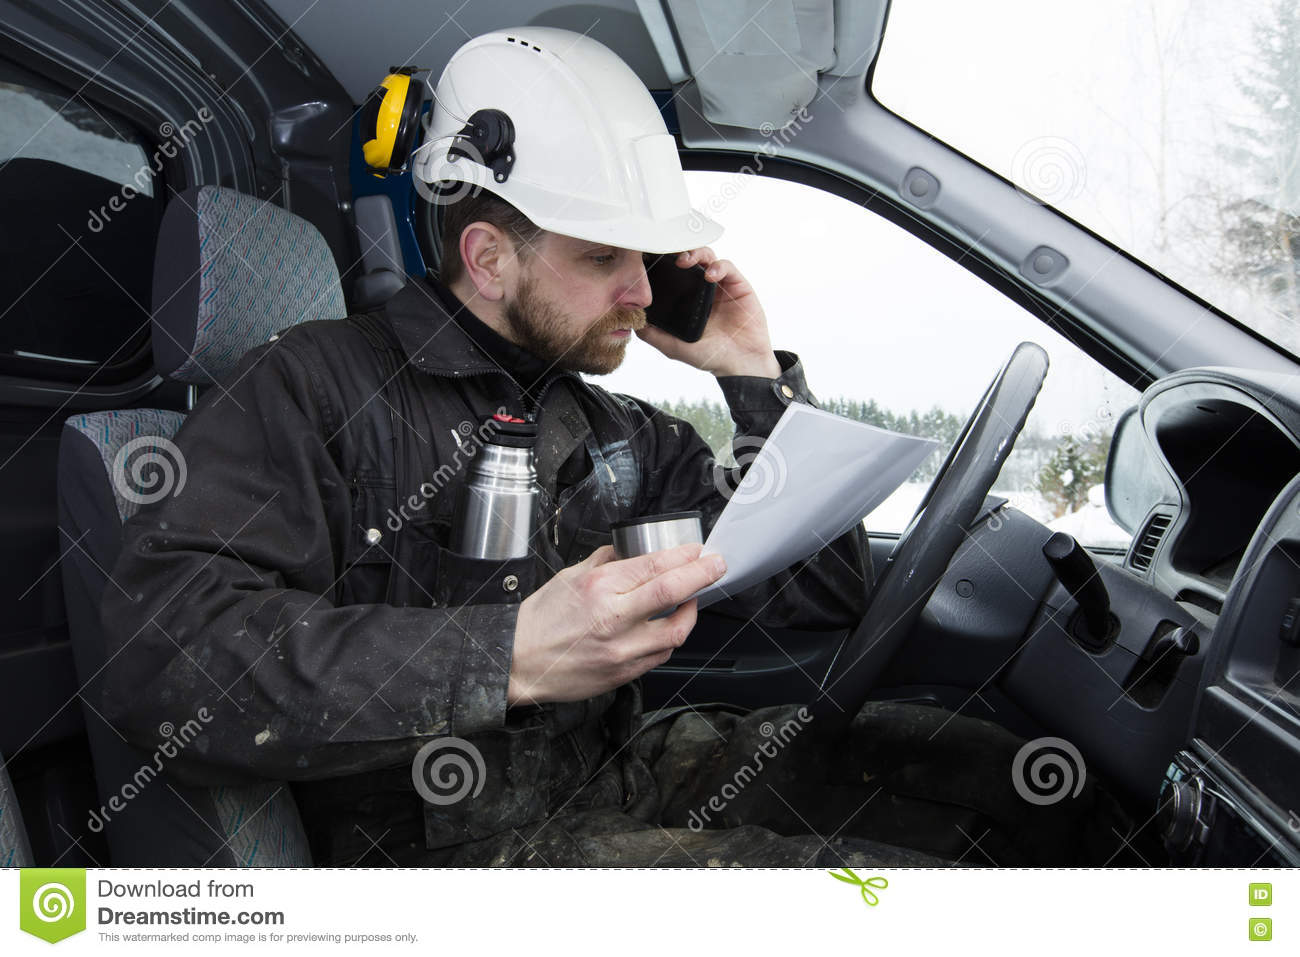phone: (645, 247, 716, 341)
talk: (541, 240, 774, 389)
